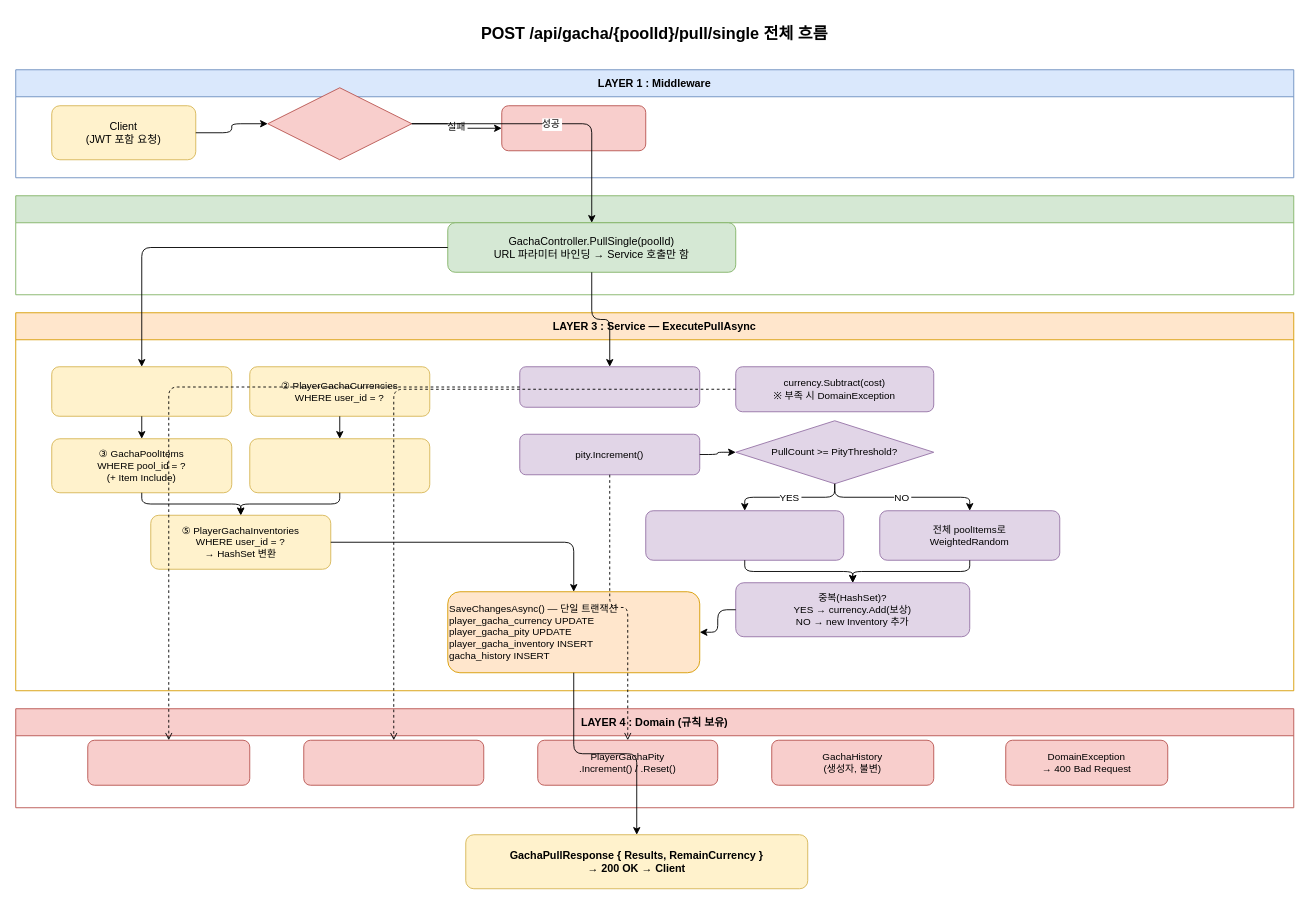
This 1310x905 diagram has some shape labels left out. Each missing label, with the box of its shape:
401 Unauthorized: (501, 105, 646, 151)
[Authorize] JWT 검증: (267, 87, 412, 160)
GachaPool .IsAvailable(): (87, 739, 250, 785)
Grade >= PityGrade 필터 후 WeightedRandom + pity.Reset(): (645, 510, 844, 560)
LAYER 2 : Controller: (15, 195, 1294, 295)
PlayerGachaCurrency .Subtract() / .Add(): (303, 739, 484, 785)
pool.IsAvailable(now): (519, 366, 700, 407)
① GachaPools WHERE pool_id = ?: (51, 366, 232, 416)
④ PlayerGachaPities WHERE user_id = ? AND pool_id = ?: (249, 438, 430, 493)
